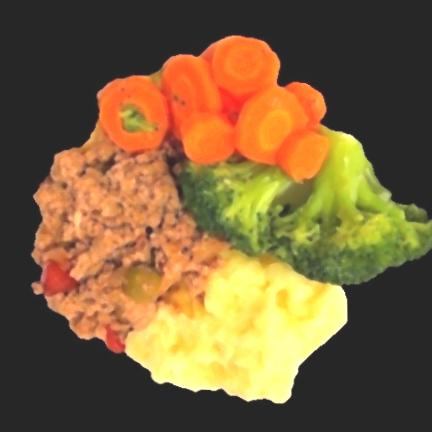broccoli: (178, 125, 431, 284)
carrot: (98, 35, 327, 179)
meat: (31, 124, 227, 342)
potato: (125, 250, 346, 401)
